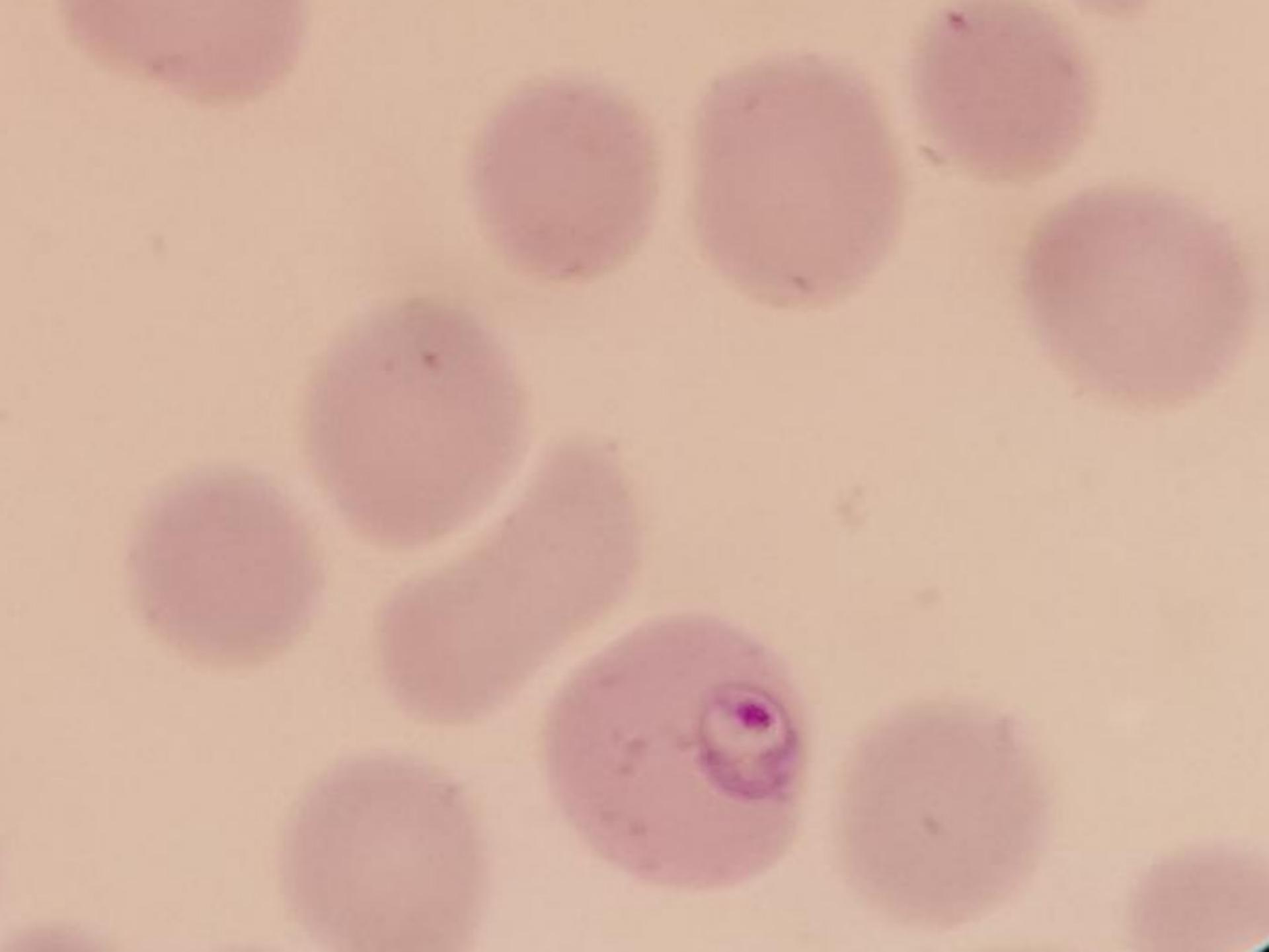Infected: (545, 610, 808, 890)
Uninfected: (368, 441, 642, 725), (301, 303, 525, 548), (692, 50, 901, 301), (825, 699, 1049, 922), (1024, 189, 1253, 407), (281, 752, 491, 952), (468, 78, 662, 277), (127, 476, 322, 668), (920, 0, 1089, 176)
